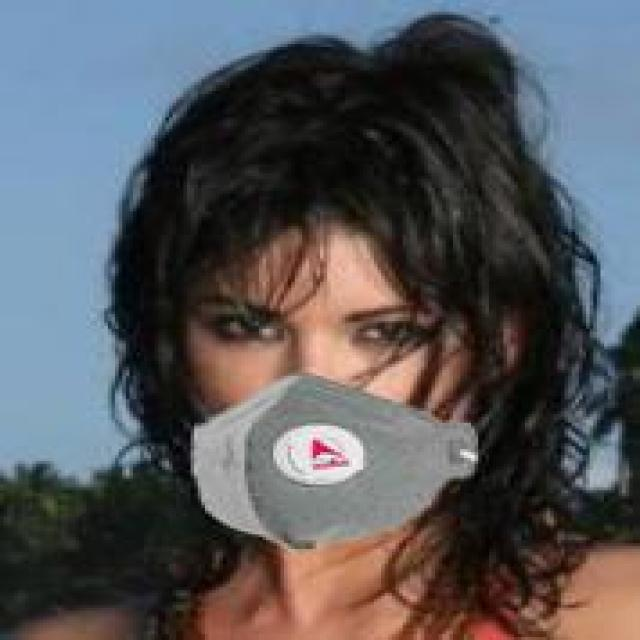mask: (97, 68, 557, 549)
